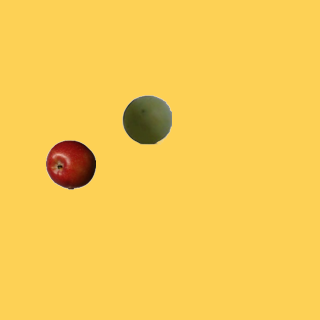Apple Braeburn: (45, 139, 95, 189)
Grape White 4: (121, 94, 171, 144)
